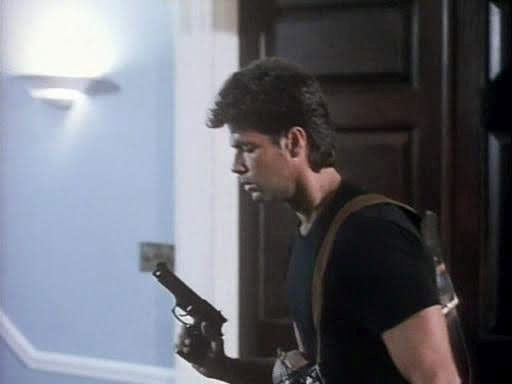gun: (123, 247, 242, 353)
